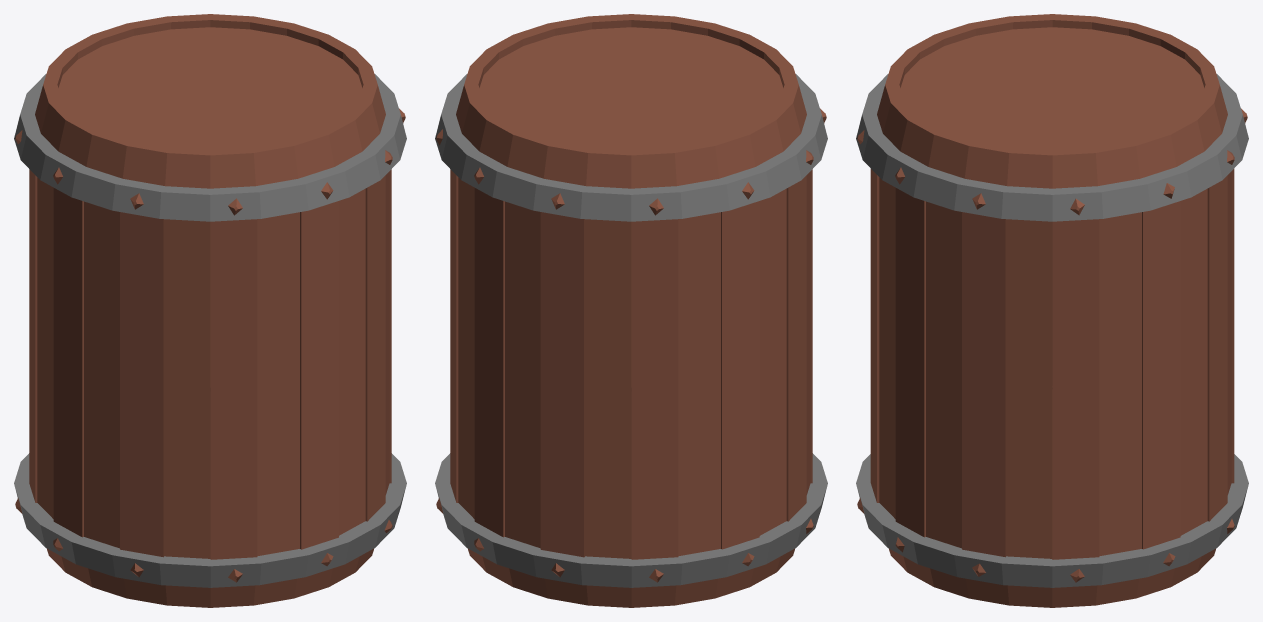
Rendered from barrel 1.fbx.
3 renders of one model, left to right at view 1: azimuth 30°, elevation 25°; view 2: azimuth 150°, elevation 25°; view 3: azimuth 270°, elevation 25°, orthographic.
Parts seen in each view (by area): view 1: Cylinder; view 2: Cylinder; view 3: Cylinder.
Boxes of the visible parts, left/top/right/bottom form: Cylinder: left=14, top=14, right=406, bottom=607; Cylinder: left=435, top=14, right=827, bottom=607; Cylinder: left=856, top=14, right=1248, bottom=607.
Size of the model in its own units: 268 by 340 by 268.
